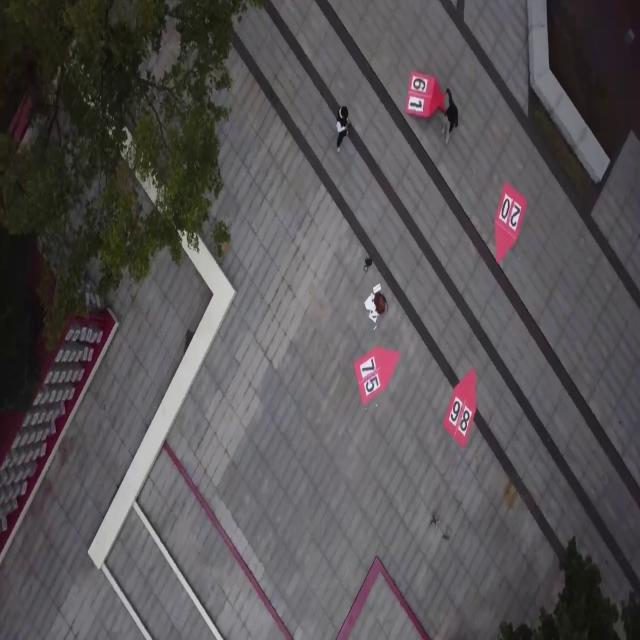-sign-: (494, 182, 528, 267), (353, 346, 399, 407), (444, 368, 478, 448), (407, 72, 447, 118)
